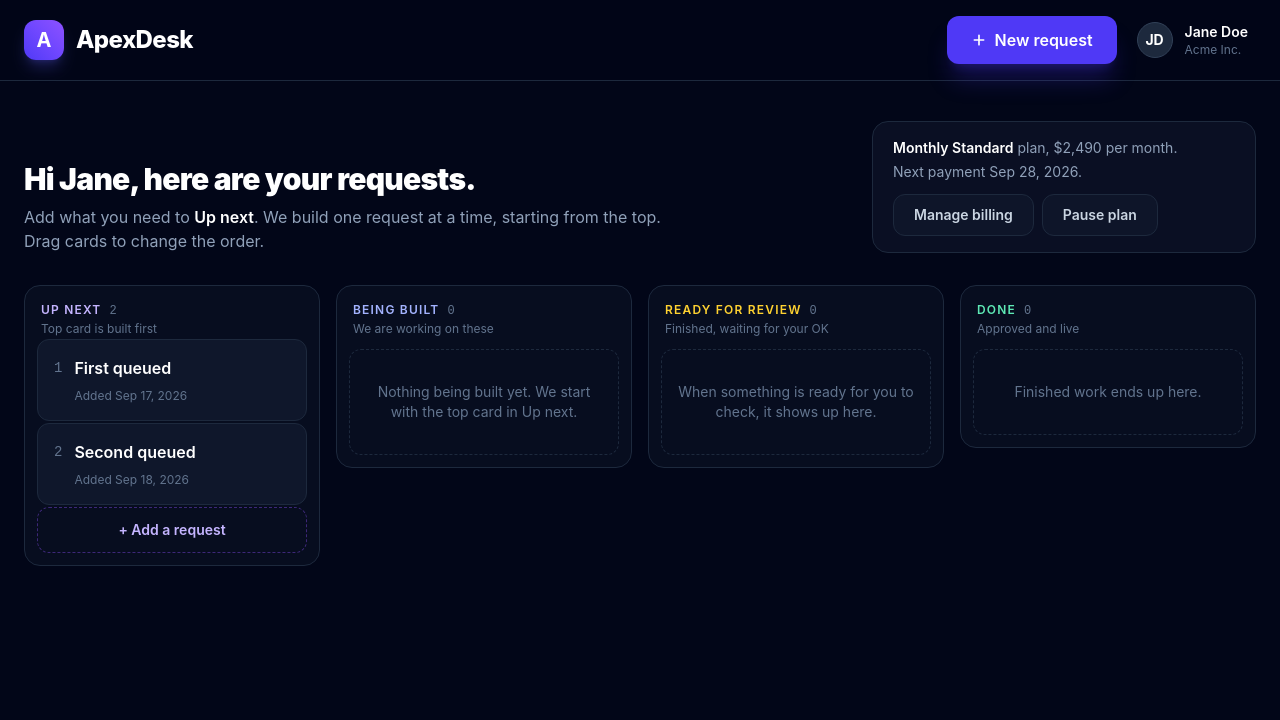
DashboardPage request modal › moves a request to the top from the modal
Expected: the heading "Up next 2" is shown, x1=41 y1=302 x2=117 y2=318
Click the button "1 First queued Added Sep 17, 2026" at (172, 380), box x1=38 y1=340 x2=306 y2=420
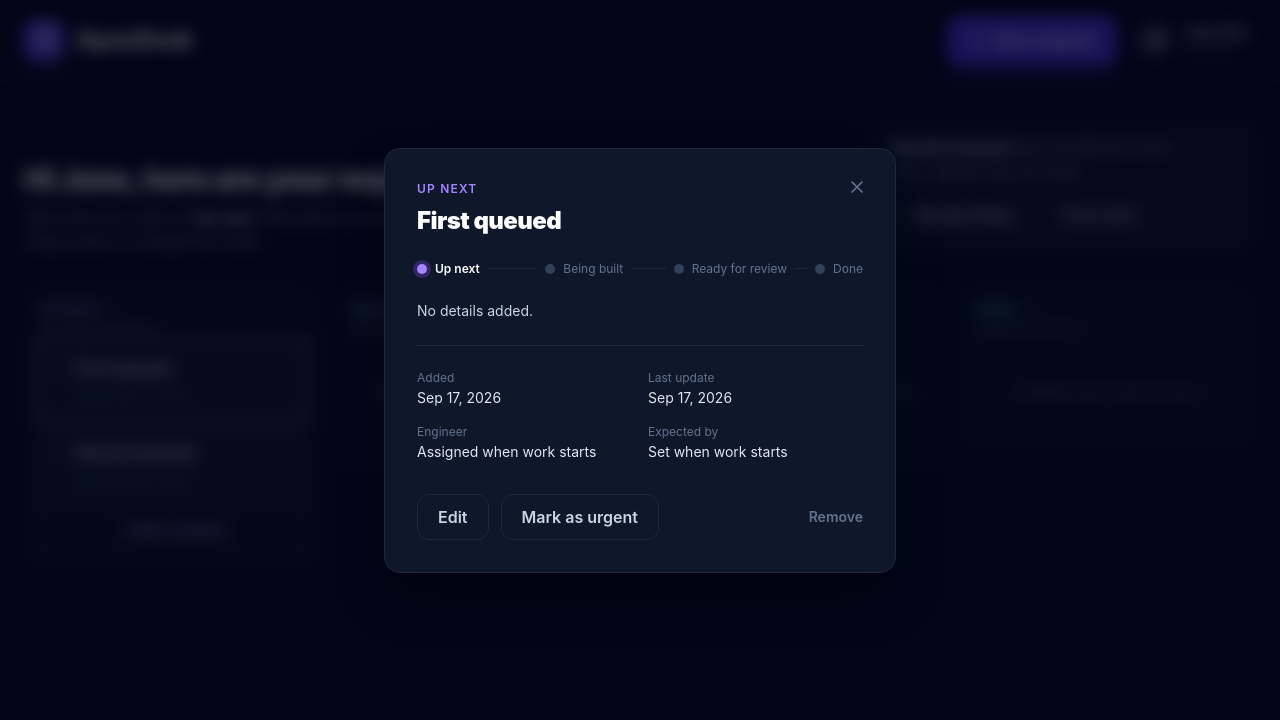
Expected: the button "Move to top" is not shown
Press Escape
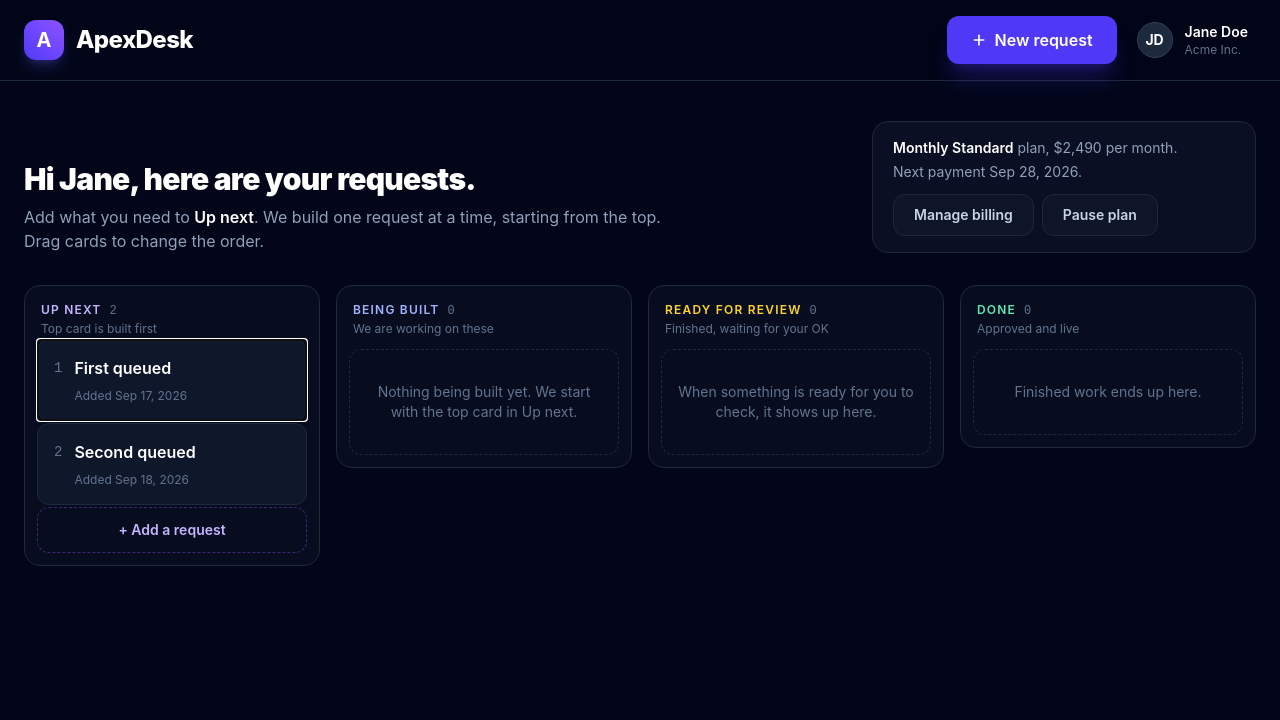
Click the button "2 Second queued Added Sep 18, 2026" at (172, 464), box x1=38 y1=424 x2=306 y2=504
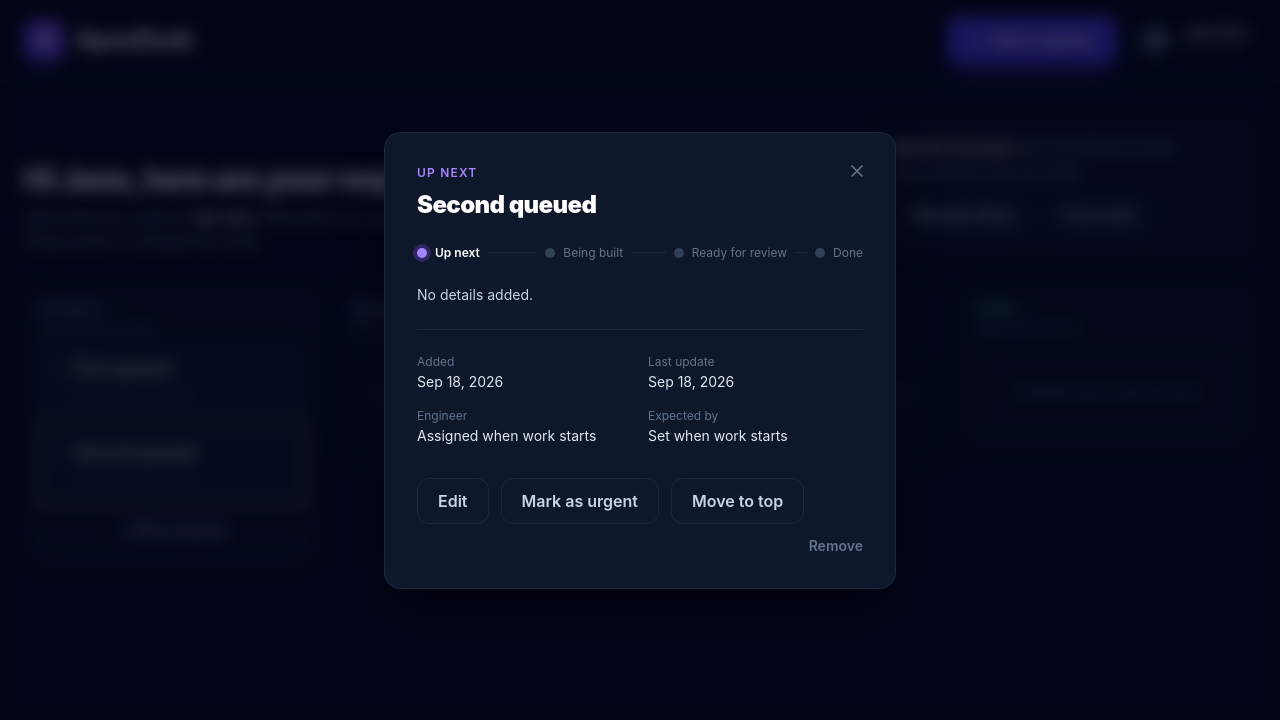
Click the button "Move to top" at (738, 500), box x1=671 y1=478 x2=804 y2=524
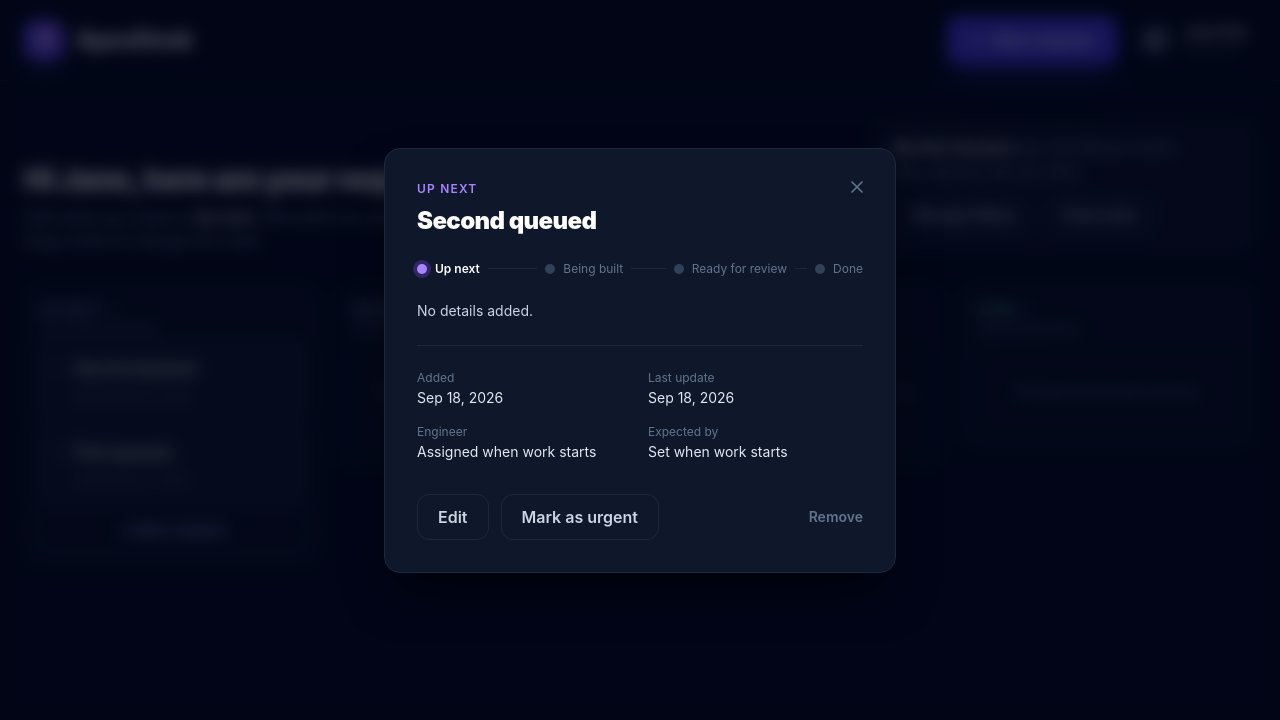
Expected: the button "Move to top" is gone
